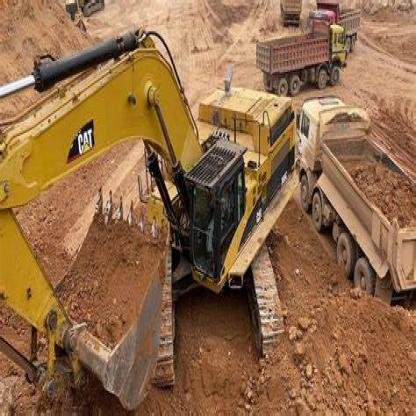dump_truck: (291, 78, 415, 324), (259, 19, 353, 92)
excavator: (2, 28, 298, 415)
